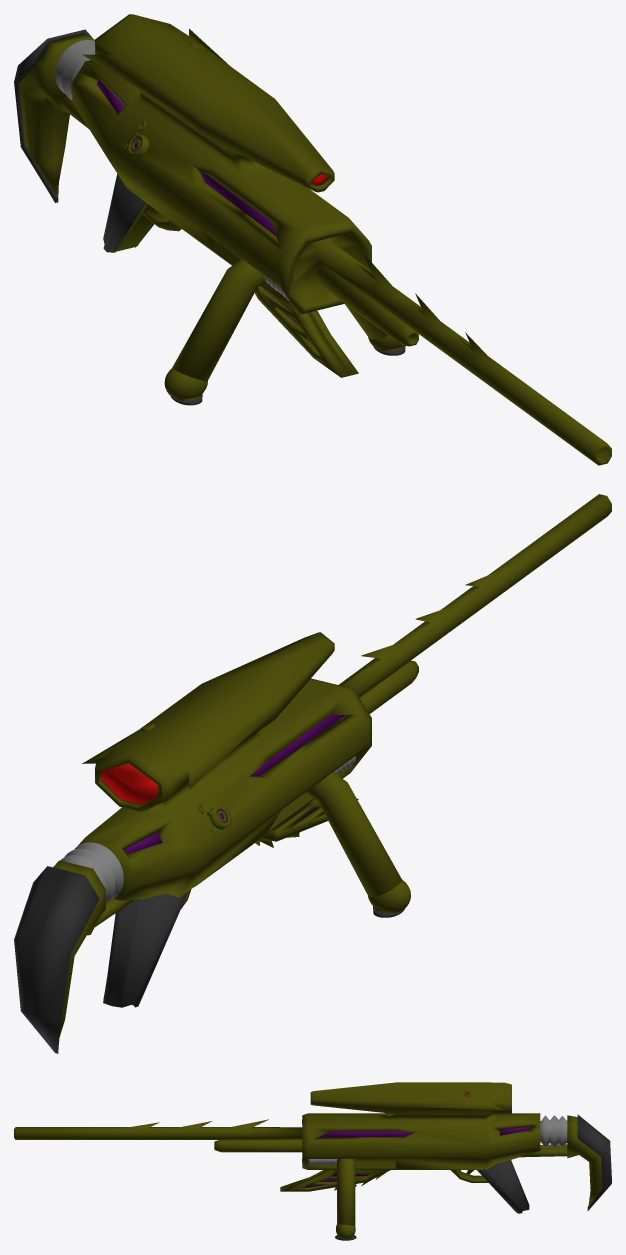
File: Xenonian Sniper V2 1.dae
3 renders of one model, top to bottom at view 1: azimuth 30°, elevation 25°; view 2: azimuth 150°, elevation 25°; view 3: azimuth 270°, elevation 25°, orthographic. The views are drawn at different scales.
Visible parts, largest first — view 1: Cylinder; view 2: Cylinder; view 3: Cylinder.
Part boxes in pixels (x1,y1,x2,y2): Cylinder: [14, 14, 611, 465]; Cylinder: [14, 494, 611, 1053]; Cylinder: [14, 1082, 611, 1240].
Size of the model in its own units: 4.37 by 17.83 by 4.26.
